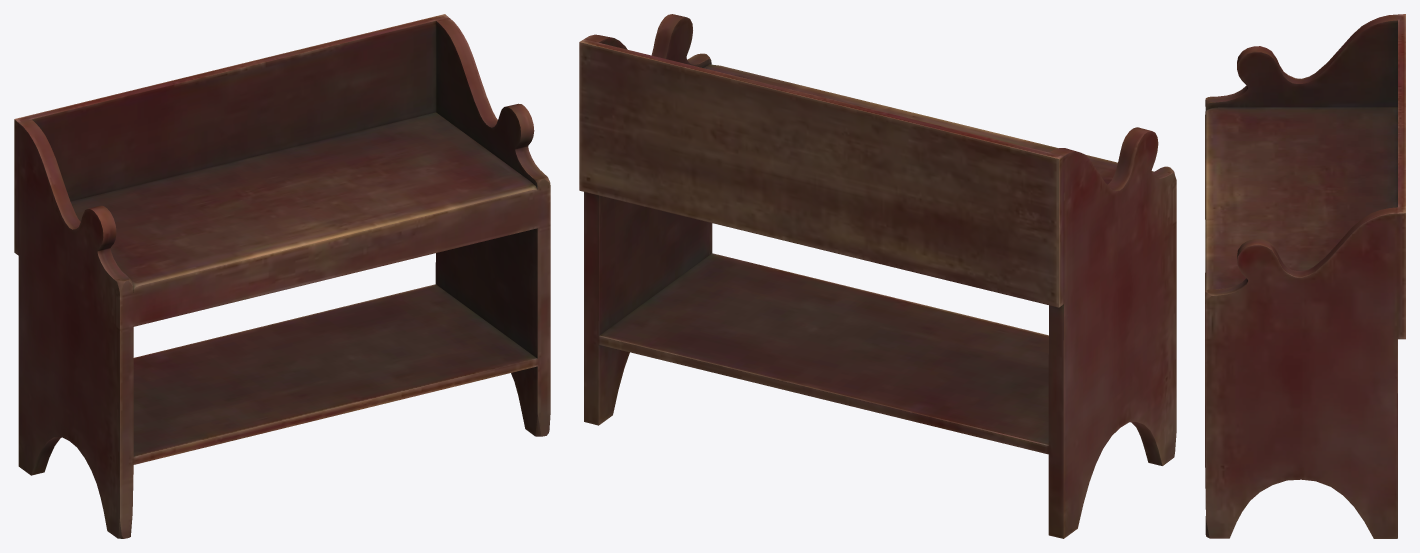
Rendered from painted_wooden_bench.glb.
3 views of the same model, side by side, from view 1: azimuth 30°, elevation 25°; view 2: azimuth 150°, elevation 25°; view 3: azimuth 270°, elevation 25° (orthographic). The views are drawn at different scales.
Visible parts, largest first — view 1: painted_wooden_bench; view 2: painted_wooden_bench; view 3: painted_wooden_bench.
Boxes of the visible parts, x1,y1,x2,y2 form: painted_wooden_bench: (14, 14, 550, 538); painted_wooden_bench: (579, 14, 1176, 538); painted_wooden_bench: (1205, 14, 1405, 538).
Bounding box in the file's own units: 1.16 × 0.8893 × 0.4965.
1 material, 1 textured.
